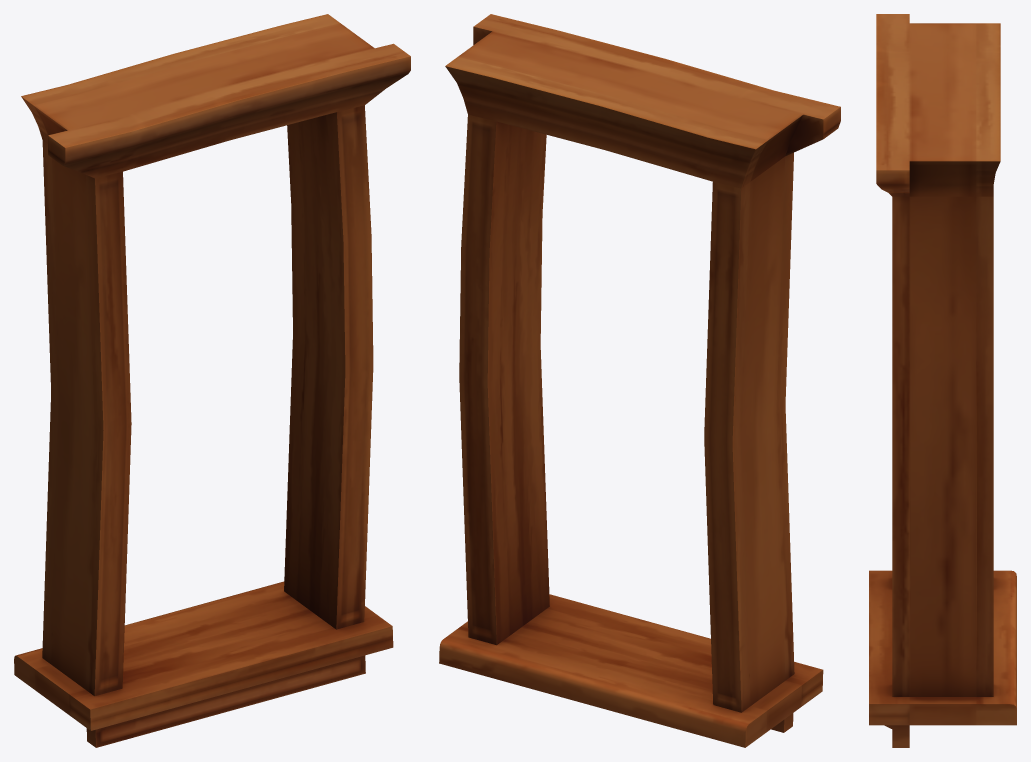
The model's file is PropWindow01TypeF_1_2.FBX.
The picture shows the model from 3 angles, left to right: view 1: azimuth 30°, elevation 25°; view 2: azimuth 150°, elevation 25°; view 3: azimuth 270°, elevation 25°; orthographic projection. The views are drawn at different scales.
Visible parts, largest first — view 1: PropWindow01TypeF_1_2; view 2: PropWindow01TypeF_1_2; view 3: PropWindow01TypeF_1_2.
Part boxes in pixels (x1=…): PropWindow01TypeF_1_2: x1=14, y1=14, x2=410, y2=747; PropWindow01TypeF_1_2: x1=439, y1=14, x2=840, y2=747; PropWindow01TypeF_1_2: x1=869, y1=14, x2=1016, y2=747.
Size of what is drawn, in the model's own units: 1.16 by 2 by 0.4449.
